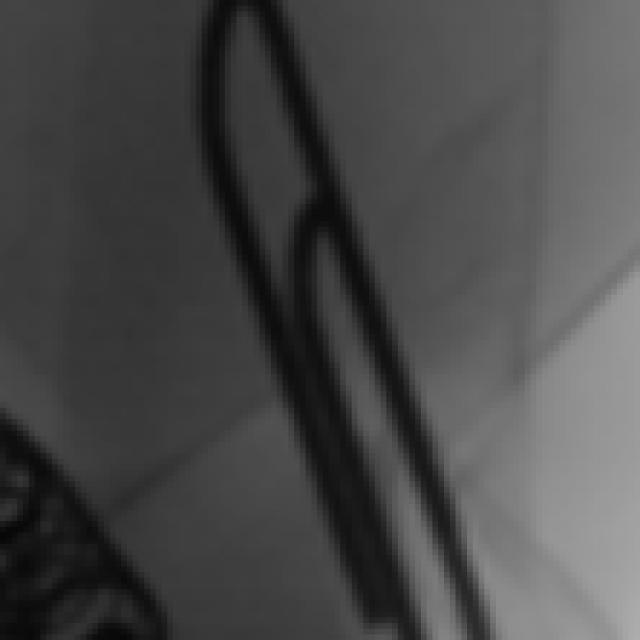BLADE: (352, 246, 475, 638)
